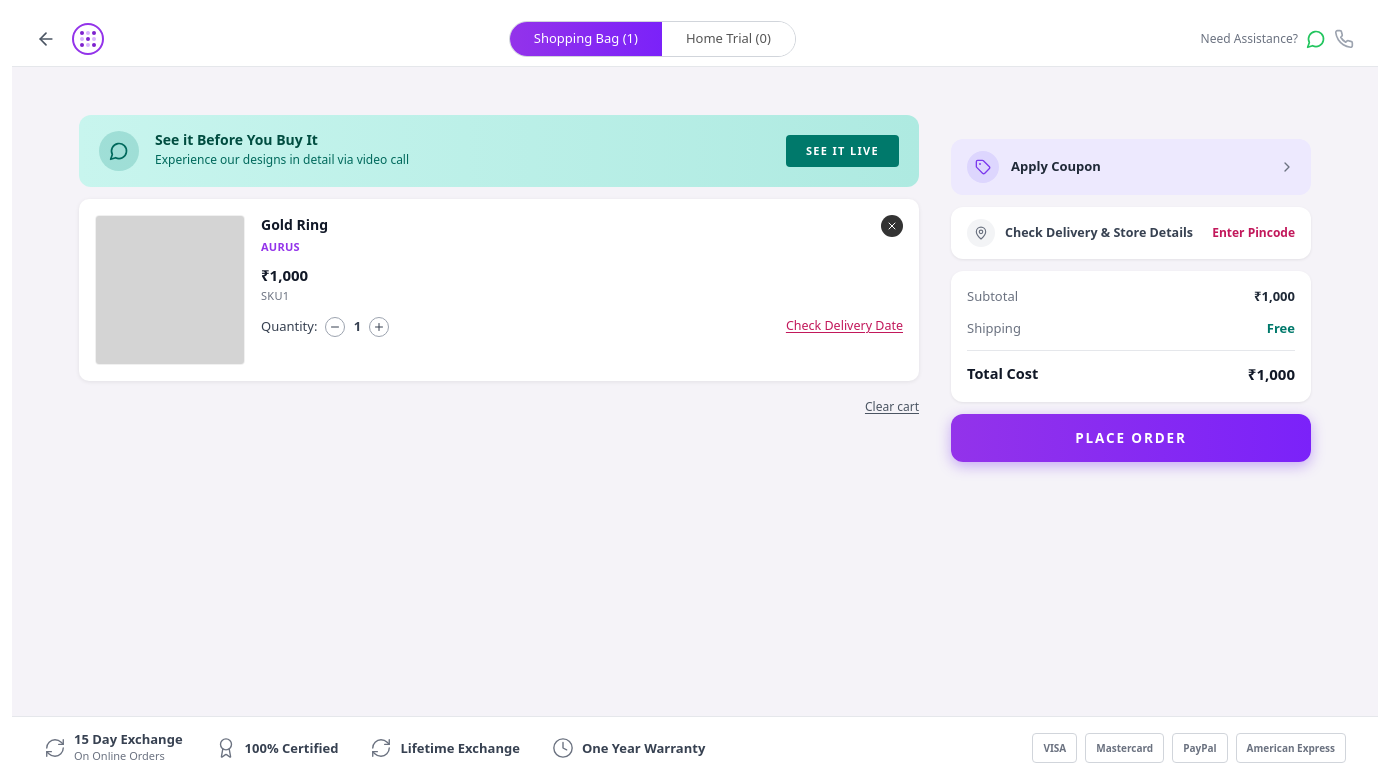
Test: AurusCart — optional account prompt before checkout › never prompts a signed-in customer
Click the link "PLACE ORDER" at (1131, 438), box [951,414,1311,462]
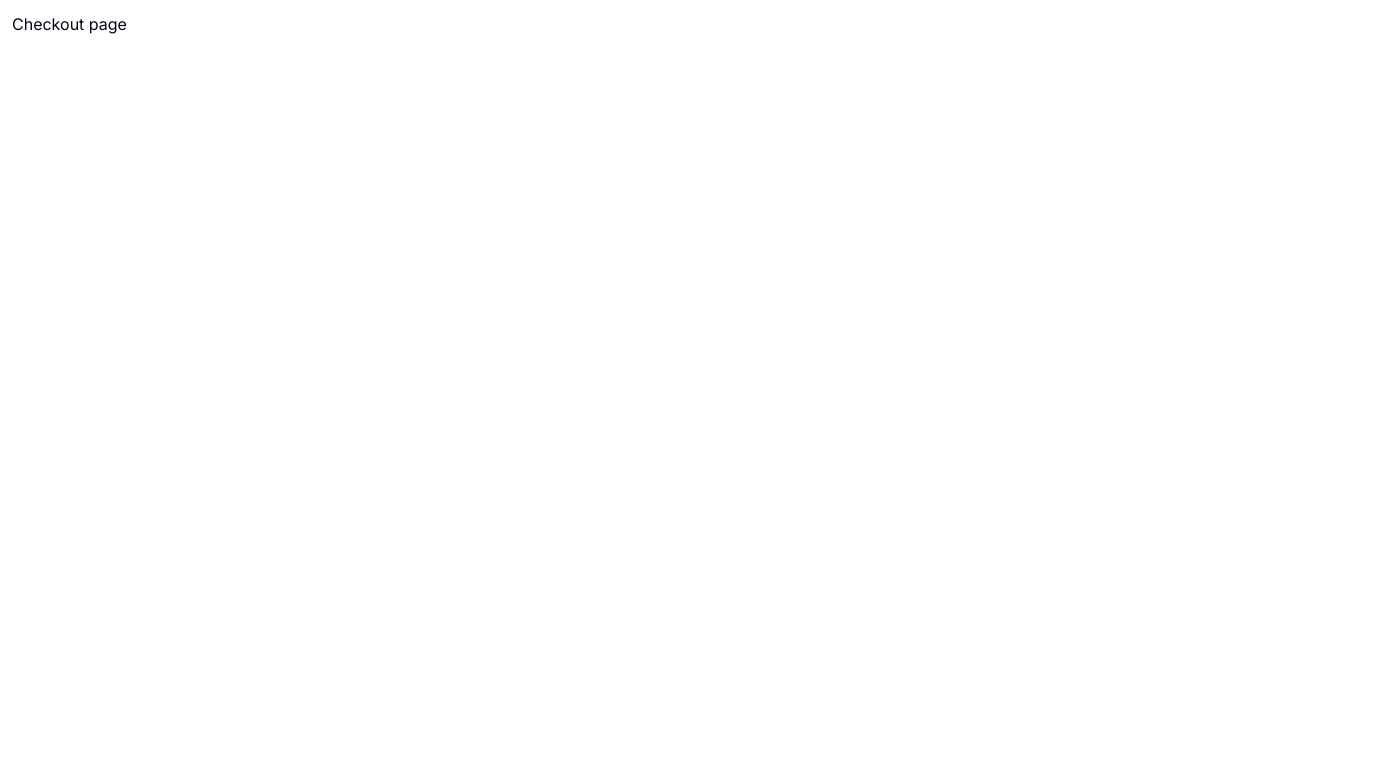
Result: the text "Checkout page" is shown at [12,14,127,34]
